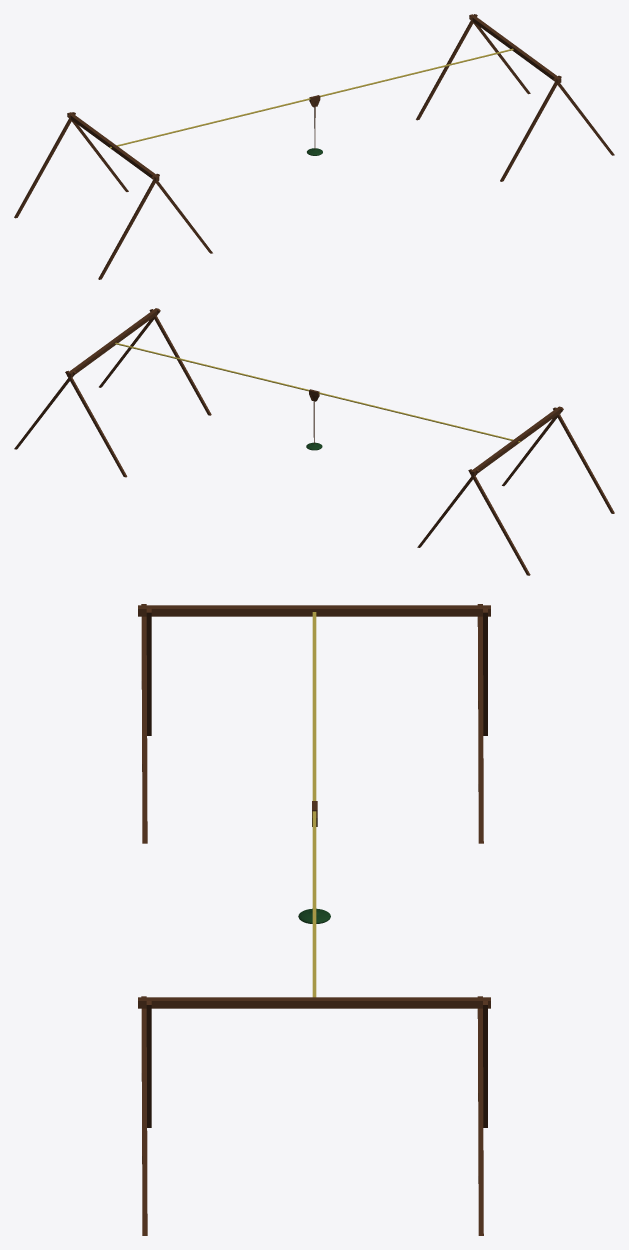
The model's file is seilbahn.fbx.
3 views of the same model, one above another, from view 1: azimuth 30°, elevation 25°; view 2: azimuth 150°, elevation 25°; view 3: azimuth 270°, elevation 25° (orthographic). The views are drawn at different scales.
Parts seen in each view (by area): view 1: Cube.014, Cube.009, Cube.002, Cube.007, Cube.003, Cube.012, Cube.005; view 2: Cube.014, Cube.009, Cube.002, Cube.005, Cube.012, Cube.007, Cube.003; view 3: Cube.002, Cube.009, Cube.014, Cube.006, Cube.008, Cube.013, Cube.001.
Part boxes in pixels (left/top/right/bottom): Cube.014: left=109, top=48, right=513, bottom=148; Cube.009: left=67, top=112, right=159, bottom=181; Cube.002: left=469, top=14, right=561, bottom=83; Cube.007: left=98, top=173, right=159, bottom=279; Cube.003: left=500, top=75, right=561, bottom=181; Cube.012: left=14, top=112, right=75, bottom=218; Cube.005: left=416, top=14, right=477, bottom=120; Cube.014: left=115, top=342, right=520, bottom=442; Cube.009: left=470, top=406, right=562, bottom=475; Cube.002: left=67, top=308, right=159, bottom=377; Cube.005: left=65, top=370, right=127, bottom=477; Cube.012: left=468, top=469, right=530, bottom=575; Cube.007: left=553, top=407, right=614, bottom=513; Cube.003: left=149, top=309, right=211, bottom=415; Cube.002: left=138, top=997, right=490, bottom=1008; Cube.009: left=138, top=605, right=490, bottom=616; Cube.014: left=312, top=612, right=316, bottom=997; Cube.006: left=477, top=996, right=483, bottom=1235; Cube.008: left=141, top=604, right=147, bottom=843; Cube.013: left=477, top=604, right=483, bottom=843; Cube.001: left=141, top=996, right=147, bottom=1235.
Size of the model in its own units: 7298 by 1236 by 2167.
